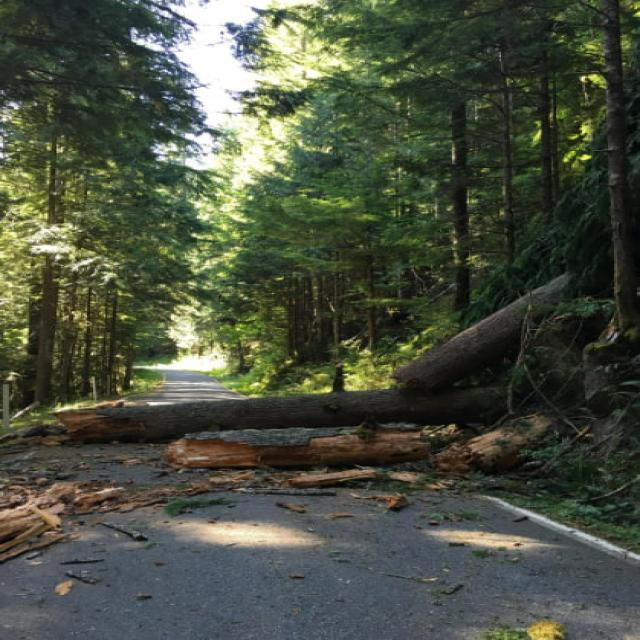fallen_tree: (0, 262, 616, 439)
